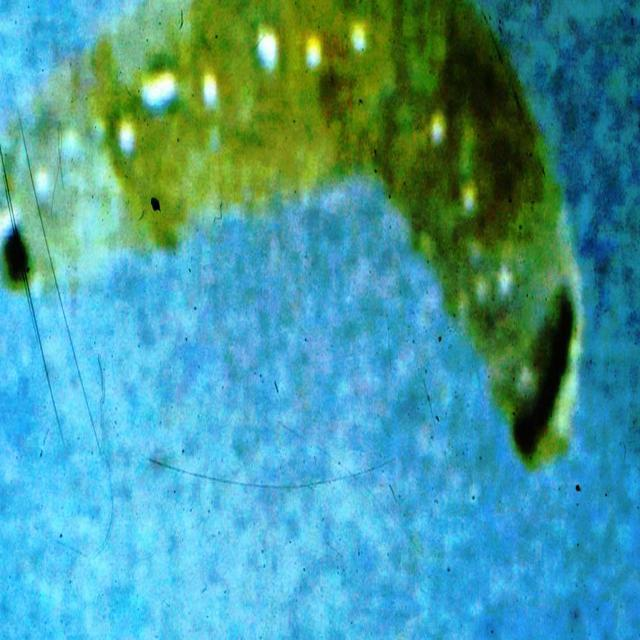whorl-maggot: (1, 3, 586, 471)
